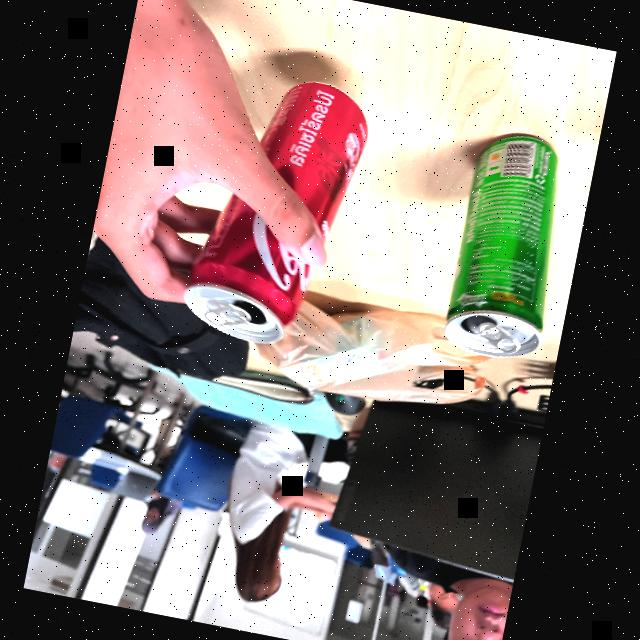can: (175, 54, 396, 368), (428, 120, 574, 381)
